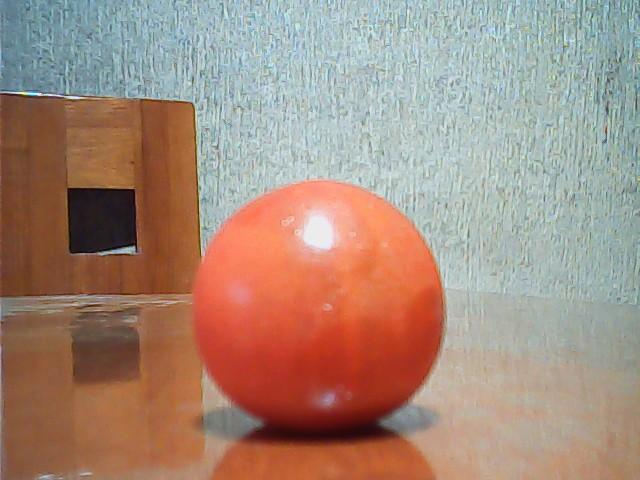maduro: (185, 176, 452, 425)
